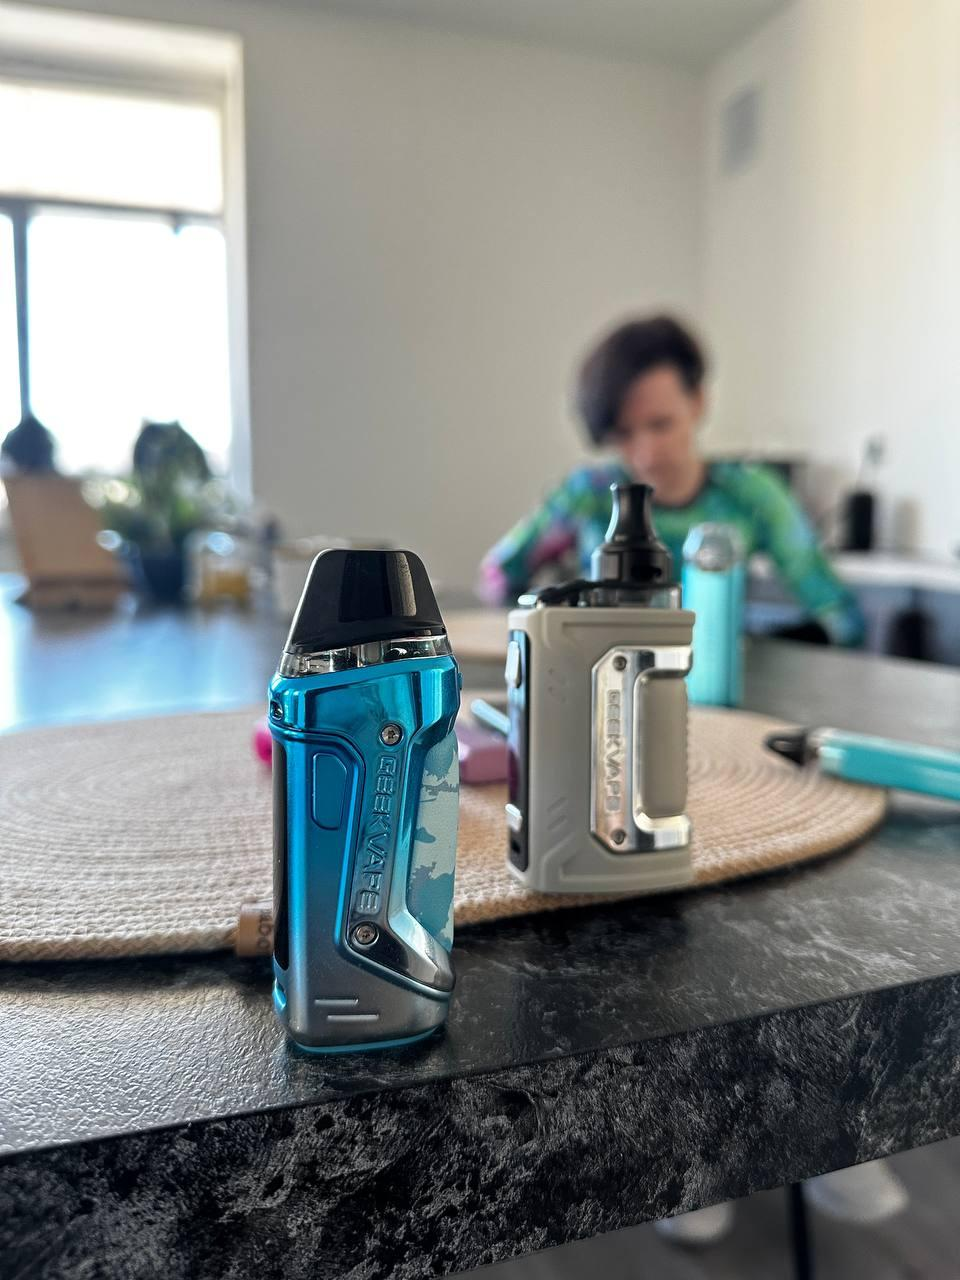Vape: (266, 548, 460, 1056), (504, 483, 694, 898)
